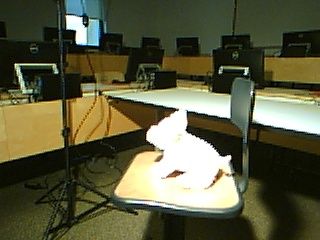piggy: (143, 108, 233, 189)
